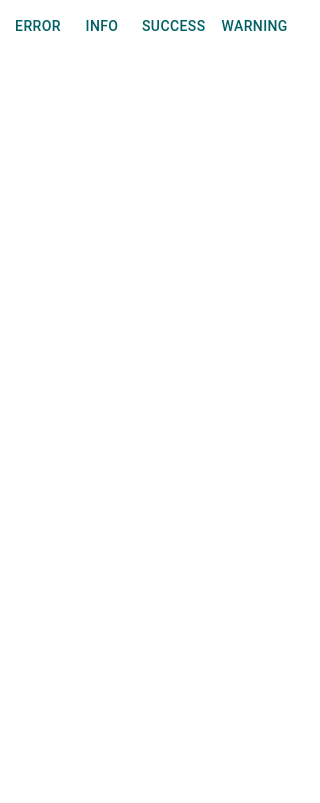
Snackbar component › should close a displayed snackbar
Click the button "warning": (255, 26) [214,8,296,44]
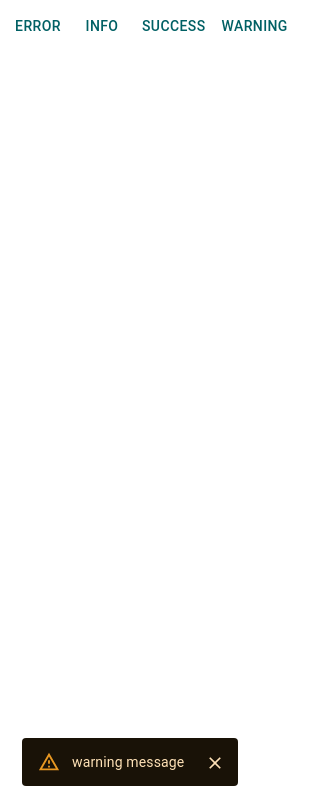
Expected: the text "warning message" is shown, [72,754,184,770]
Expected: the icon with test id "ReportProblemOutlinedIcon" is shown, [38,751,60,773]
Click the button named "Close": (215, 763) [200,748,230,778]
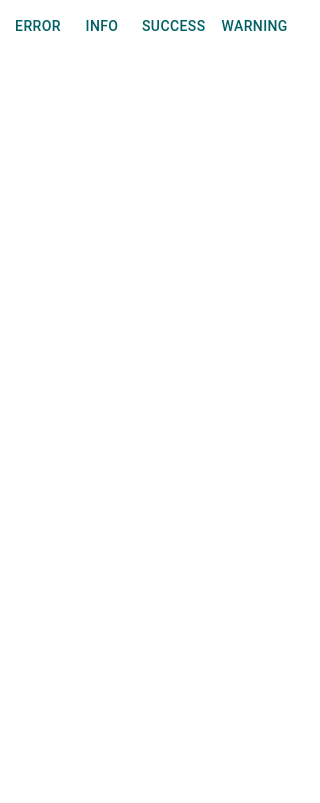
Expected: the text "warning message" is gone
